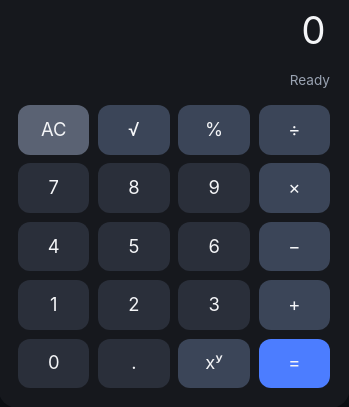
Scenario: Calculator › surfaces API errors
Click the button "8". click: coordinates (134, 188)
box: x1=98 y1=163 x2=170 y2=213
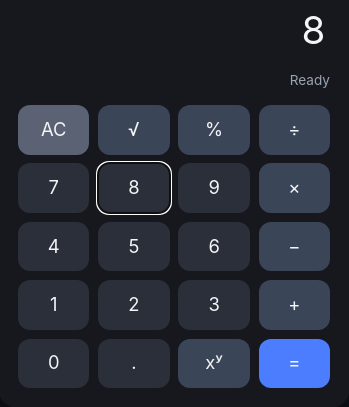
Click the button named "divide". click: coordinates (294, 130)
box: x1=259 y1=105 x2=330 y2=155
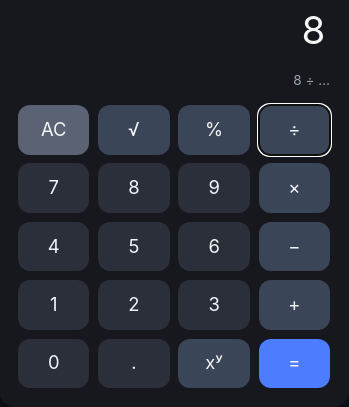
Click the button "0". click: coordinates (54, 363)
box: x1=18 y1=338 x2=89 y2=388
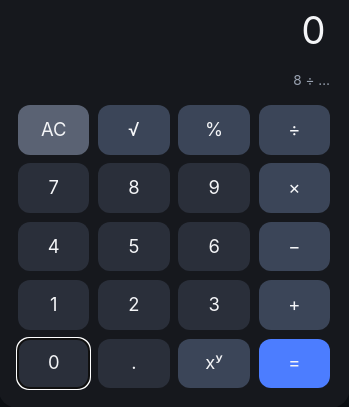
Click the button named "equals". click: coordinates (294, 363)
box: x1=259 y1=338 x2=330 y2=388
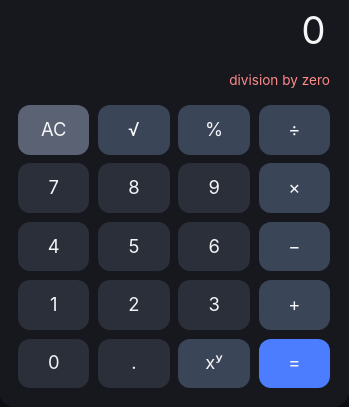
Expected: the message "division by zero" is shown, x1=229 y1=72 x2=330 y2=88
